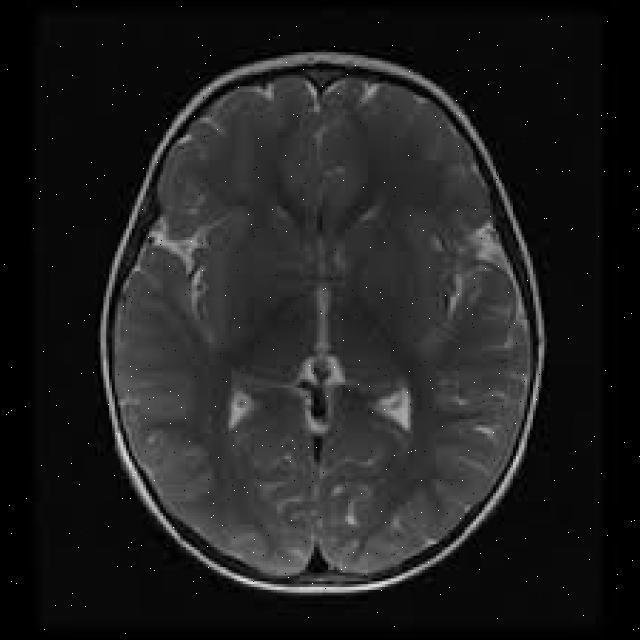No_Tumor: (100, 53, 544, 592)
